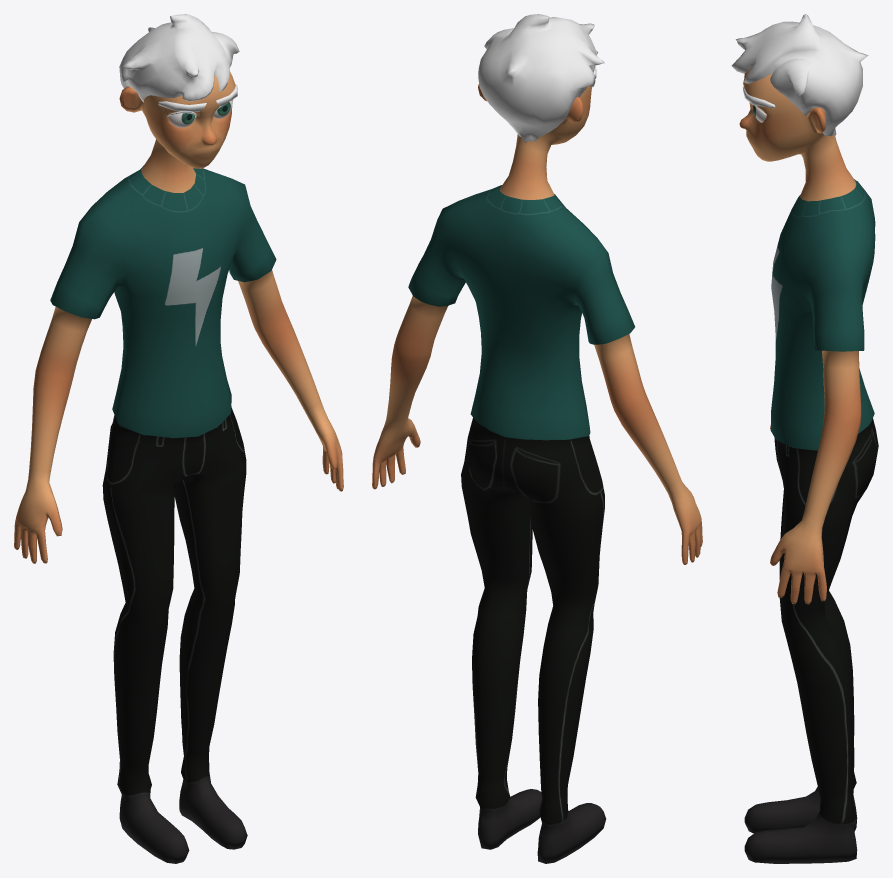
The model's file is levi_fixes.fbx.
3 renders of one model, left to right at view 1: azimuth 30°, elevation 25°; view 2: azimuth 150°, elevation 25°; view 3: azimuth 270°, elevation 25°, orthographic.
Parts seen in each view (by area): view 1: Body_low, Hair_low, Head_low; view 2: Body_low, Hair_low, Head_low; view 3: Body_low, Hair_low, Head_low.
Part boxes in pixels (<box>): Body_low: <box>14,165,343,863</box>; Hair_low: <box>119,14,239,102</box>; Head_low: <box>119,71,235,192</box>; Body_low: <box>372,185,702,863</box>; Hair_low: <box>478,14,604,142</box>; Head_low: <box>478,70,594,199</box>; Body_low: <box>744,179,878,863</box>; Hair_low: <box>731,14,868,136</box>; Head_low: <box>739,67,855,201</box>.
Bounding box in the file's own units: 191 × 477 × 77.28.
Materials: 4 (3 with a texture image).
